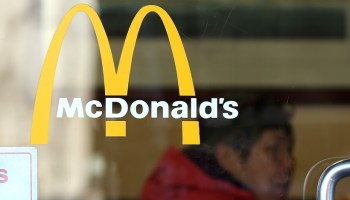mcdonalds: (28, 1, 201, 142)
